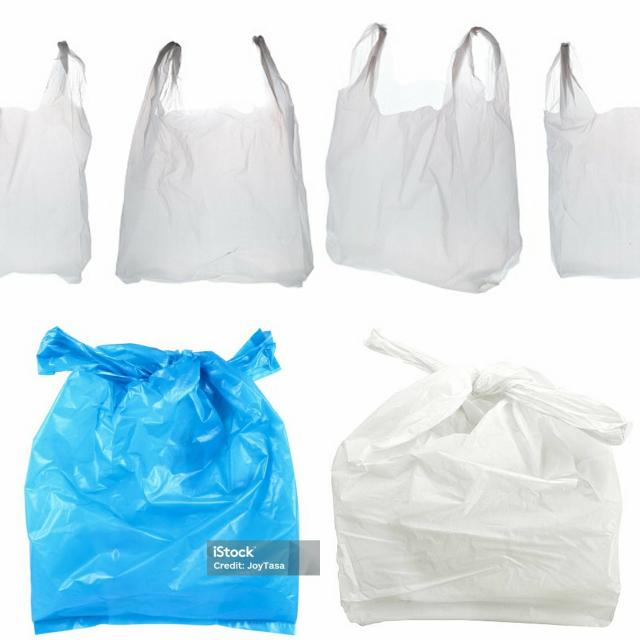Single-layer Plastic: (332, 331, 629, 626), (25, 328, 299, 633), (326, 24, 521, 292), (116, 36, 312, 286), (544, 44, 640, 278), (0, 41, 91, 282)
